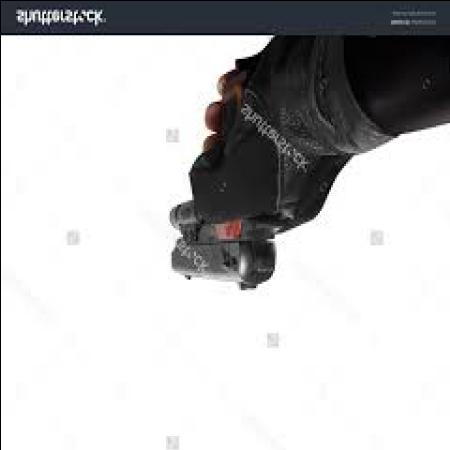Pistol: (154, 62, 278, 300)
